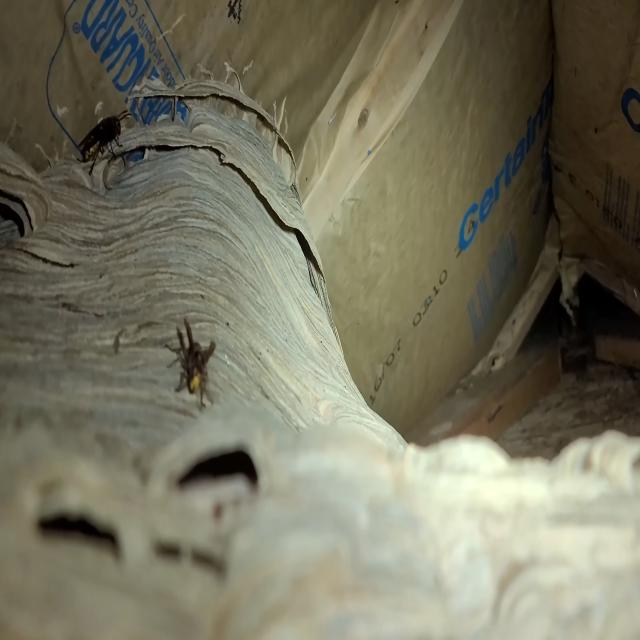Hornets: (164, 314, 217, 410), (66, 105, 134, 178)
